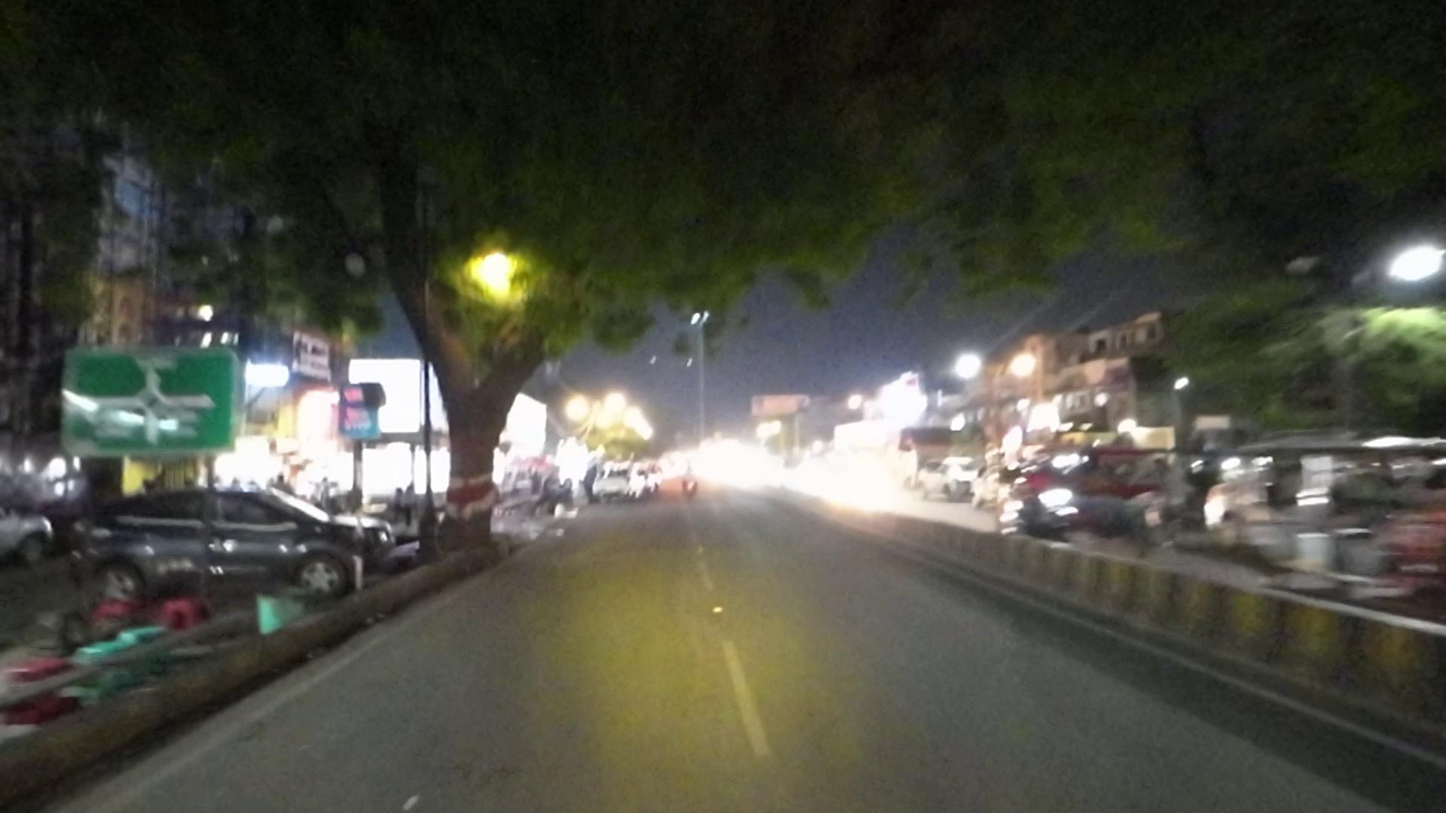streetlight: (1271, 226, 1333, 284), (343, 242, 387, 291)
